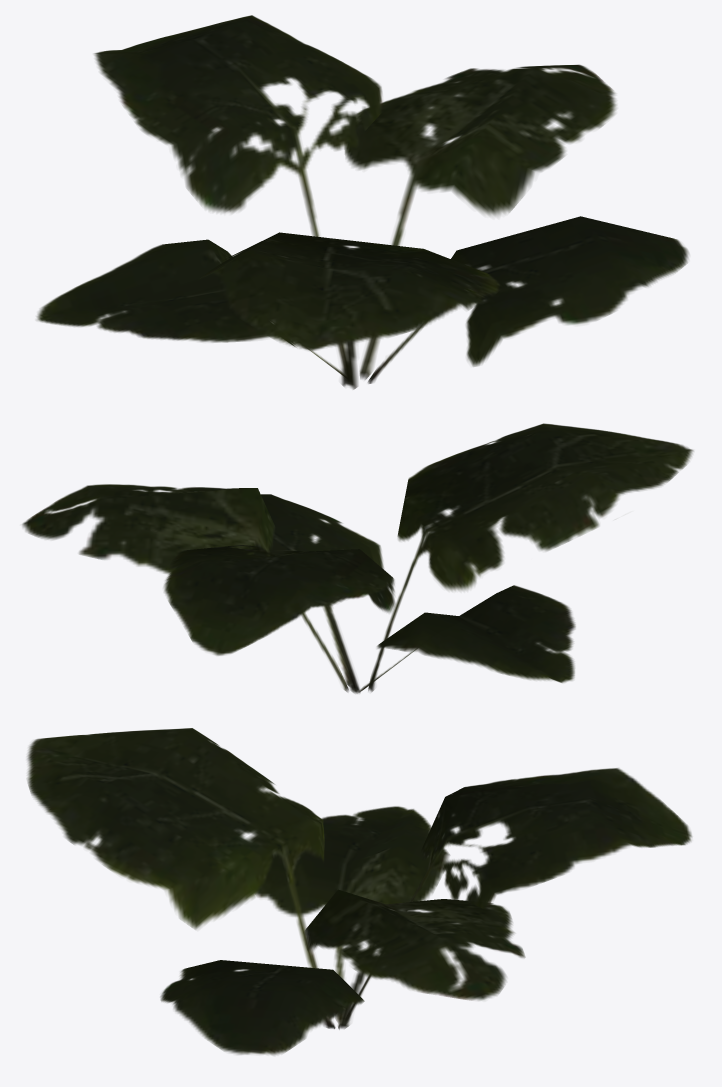
The model's file is veg-56.glb.
3 renders of one model, top to bottom at view 1: azimuth 30°, elevation 25°; view 2: azimuth 150°, elevation 25°; view 3: azimuth 270°, elevation 25°, orthographic. The views are drawn at different scales.
Visible parts, largest first — view 1: _7nba_VarD_LOD2_56; view 2: _7nba_VarD_LOD2_56; view 3: _7nba_VarD_LOD2_56.
Part boxes in pixels (x1,y1,x2,y2): _7nba_VarD_LOD2_56: [37, 15, 688, 389]; _7nba_VarD_LOD2_56: [22, 423, 693, 693]; _7nba_VarD_LOD2_56: [27, 728, 691, 1055].
Size of the model in its own units: 0.1835 by 0.0725 by 0.2019.
1 material, 1 textured.
